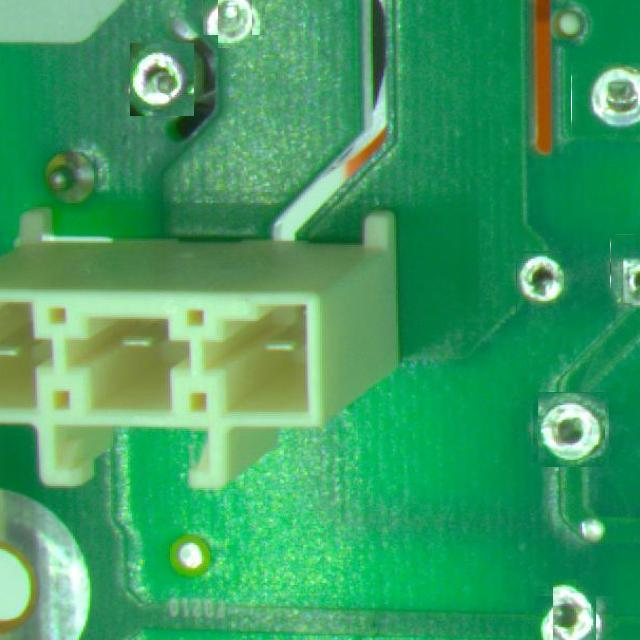lack_of_part: (536, 394, 607, 465), (571, 61, 640, 134), (130, 43, 194, 116), (516, 252, 574, 312), (543, 587, 604, 640), (610, 234, 640, 312), (210, 0, 258, 41)
